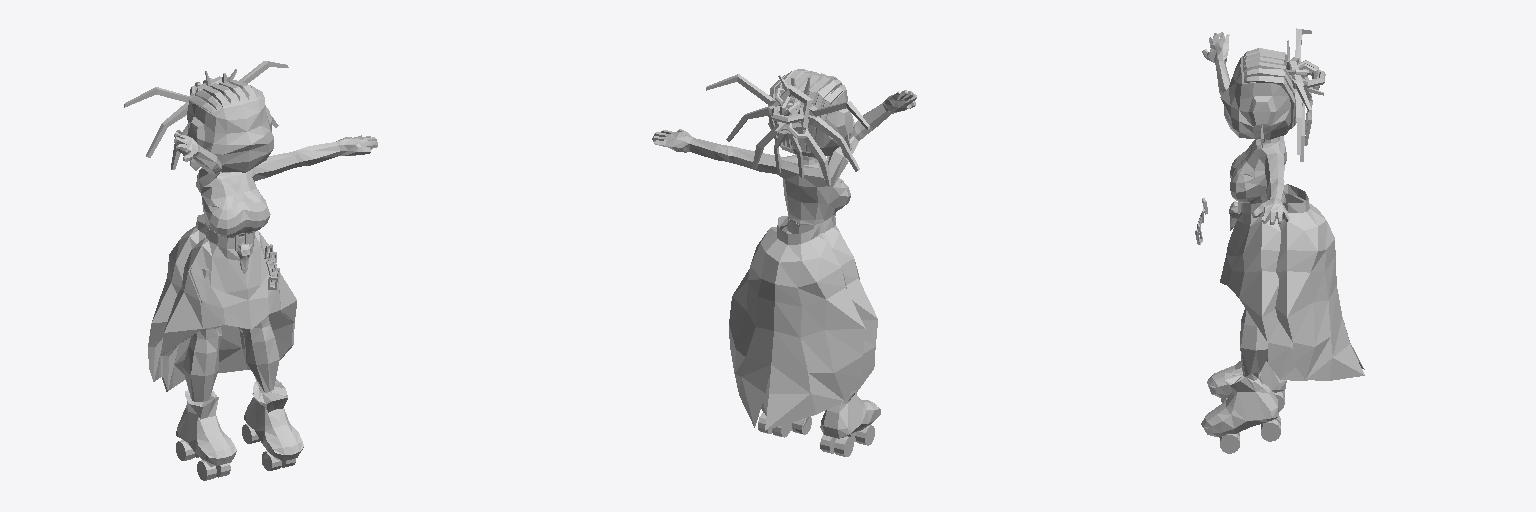
The model's file is WitchFINAL2_000022.obj.
3 renders of one model, left to right at view 1: azimuth 30°, elevation 25°; view 2: azimuth 150°, elevation 25°; view 3: azimuth 270°, elevation 25°, orthographic.
Visible parts, largest first — view 1: Body_Cylinder, Torso(Boobies)_Cylinder.002, LegR_Cube.004, LegL_Cube.003, Head_Cylinder.004, ZBody_Cylinder.001, Hair_Cylinder.006, Tail.001_Torus.001; view 2: ZBody_Cylinder.001, Torso(Boobies)_Cylinder.002, Body_Cylinder, LegR_Cube.004, Hair_Cylinder.006, Tail.001_Torus.001, Tail_Torus, Tail.002_Torus.002, Head_Cylinder.004, LegL_Cube.003; view 3: ZBody_Cylinder.001, Body_Cylinder, LegL_Cube.003, Torso(Boobies)_Cylinder.002, Head_Cylinder.004, Hair_Cylinder.006, LegR_Cube.004, Tail_Torus, Tail.002_Torus.002.
Boxes of the visible parts, x1,y1,x2,y2 form: Body_Cylinder: [161, 227, 296, 391]; Torso(Boobies)_Cylinder.002: [174, 130, 377, 238]; LegR_Cube.004: [176, 268, 236, 480]; LegL_Cube.003: [242, 315, 303, 470]; Head_Cylinder.004: [187, 82, 273, 172]; ZBody_Cylinder.001: [148, 214, 206, 381]; Hair_Cylinder.006: [187, 80, 264, 122]; Tail.001_Torus.001: [124, 87, 194, 169]; ZBody_Cylinder.001: [729, 216, 865, 430]; Torso(Boobies)_Cylinder.002: [652, 90, 916, 224]; Body_Cylinder: [762, 215, 877, 415]; LegR_Cube.004: [820, 392, 880, 456]; Hair_Cylinder.006: [768, 69, 845, 152]; Tail.001_Torus.001: [787, 101, 869, 185]; Tail_Torus: [772, 75, 812, 138]; Tail.002_Torus.002: [706, 74, 786, 172]; Head_Cylinder.004: [768, 77, 854, 157]; LegL_Cube.003: [758, 407, 811, 437]; ZBody_Cylinder.001: [1275, 184, 1364, 380]; Body_Cylinder: [1220, 198, 1307, 380]; LegL_Cube.003: [1201, 308, 1280, 453]; Torso(Boobies)_Cylinder.002: [1202, 32, 1289, 224]; Head_Cylinder.004: [1220, 56, 1293, 139]; Hair_Cylinder.006: [1243, 48, 1302, 128]; LegR_Cube.004: [1207, 358, 1286, 411]; Tail_Torus: [1284, 40, 1325, 99]; Tail.002_Torus.002: [1292, 79, 1312, 161].
Size of the model in its own units: 10.66 by 16.8 by 6.73.